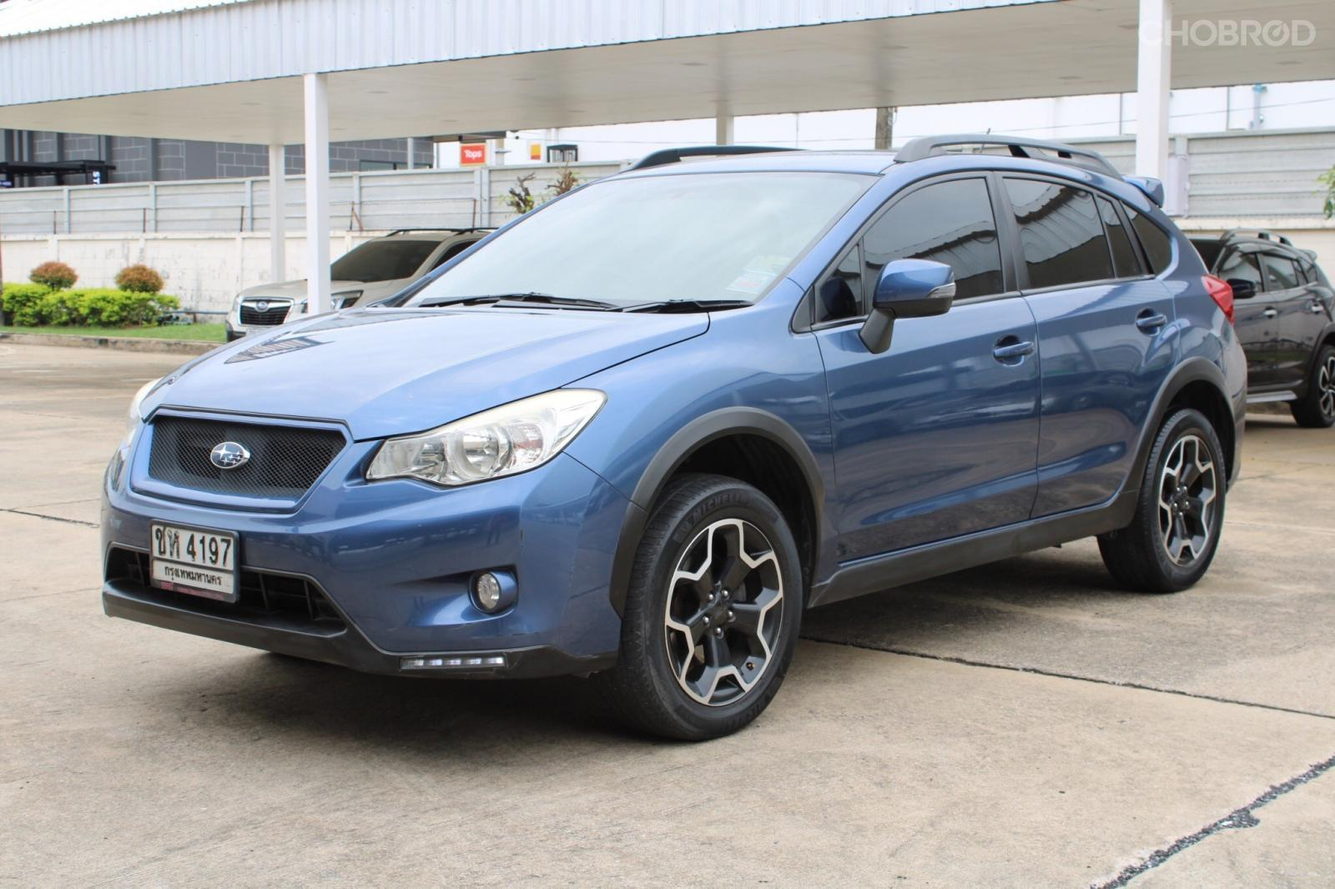license-plate: (147, 517, 243, 607)
